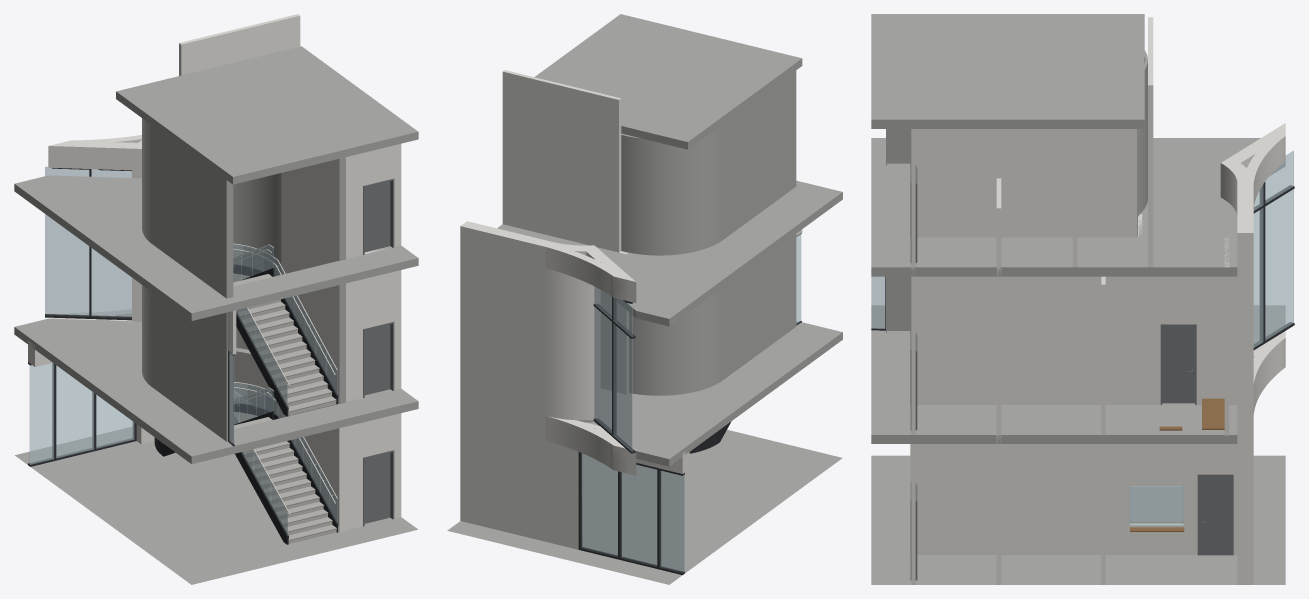
File: stair_rest.glb
3 renders of one model, left to right at view 1: azimuth 30°, elevation 25°; view 2: azimuth 150°, elevation 25°; view 3: azimuth 270°, elevation 25°, orthographic. The views are drawn at different scales.
Visible parts, largest first — view 1: A-FLOR (×11), I-WALL (×8), GLASS_EXT (×5), Layer 02 (×2), STAIR TREADS AND LANDING (×2), SPEC (×9), STAIR STRINGERS (×2), System Panel; view 2: A-FLOR (×7), I-WALL (×7), GLASS_EXT (×6), Rectangular Mullion, System Panel; view 3: I-WALL (×15), A-FLOR (×8), GLASS_EXT (×3), 08_Door_Single_Frame Type 2 (×2), Fixed, Rectangular Mullion, System Panel, 12_Counter_Straight.
Part boxes in pixels (x1,y1,x2,y2): A-FLOR (×11): (14,46,418,584); I-WALL (×8): (28,14,401,530); GLASS_EXT (×5): (29,214,134,464); Layer 02 (×2): (281,159,345,532); STAIR TREADS AND LANDING (×2): (236,299,336,543); SPEC (×9): (363,178,394,526); STAIR STRINGERS (×2): (235,317,288,544); System Panel: (229,352,234,444); A-FLOR (×7): (447,14,842,584); I-WALL (×7): (460,70,689,549); GLASS_EXT (×6): (581,298,684,571); Rectangular Mullion: (612,321,616,436); System Panel: (796,234,801,323); I-WALL (×15): (911,17,1285,584); A-FLOR (×8): (871,14,1285,584); GLASS_EXT (×3): (1253,150,1293,347); 08_Door_Single_Frame Type 2 (×2): (1162,326,1231,555); Fixed: (1132,487,1181,521); Rectangular Mullion: (1260,206,1265,343); System Panel: (871,276,885,328); 12_Counter_Straight: (1202,398,1224,429).
Size of the model in its own units: 0.1402 by 0.2524 by 0.1938.
